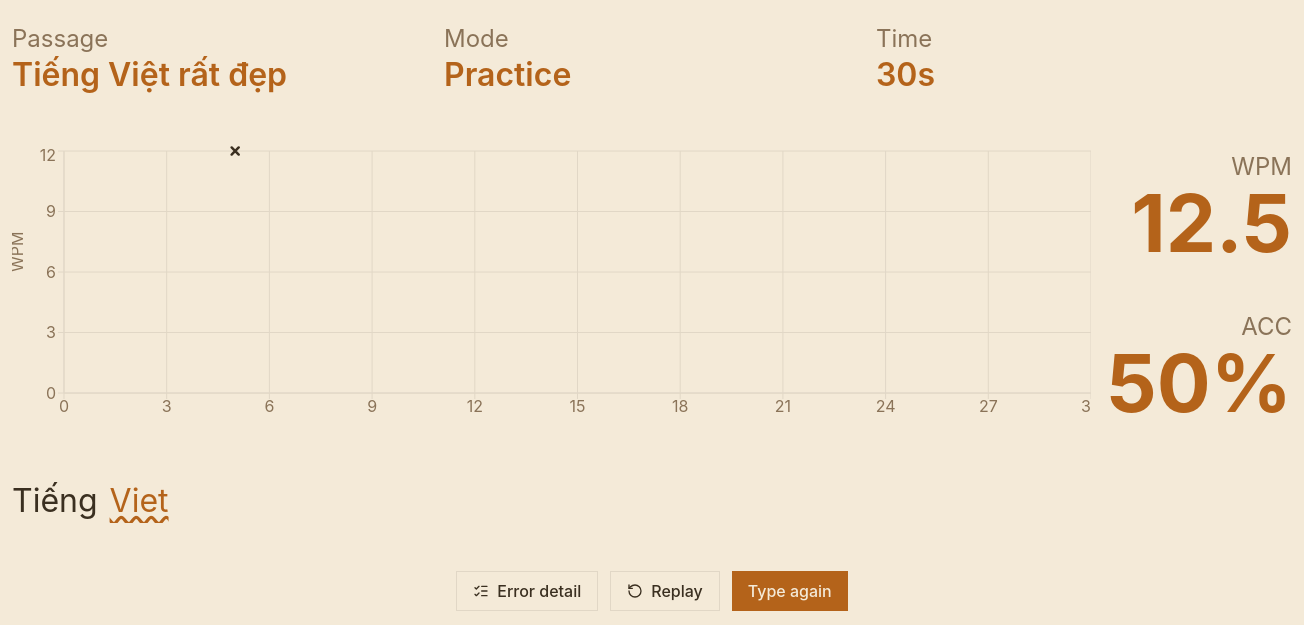
Test: TypingResultPage › says so instead of drawing an empty chart when the session has no mistakes
Step 1. Click the button "Error detail" → (527, 591), box [456, 571, 598, 611]
(page scrolled)
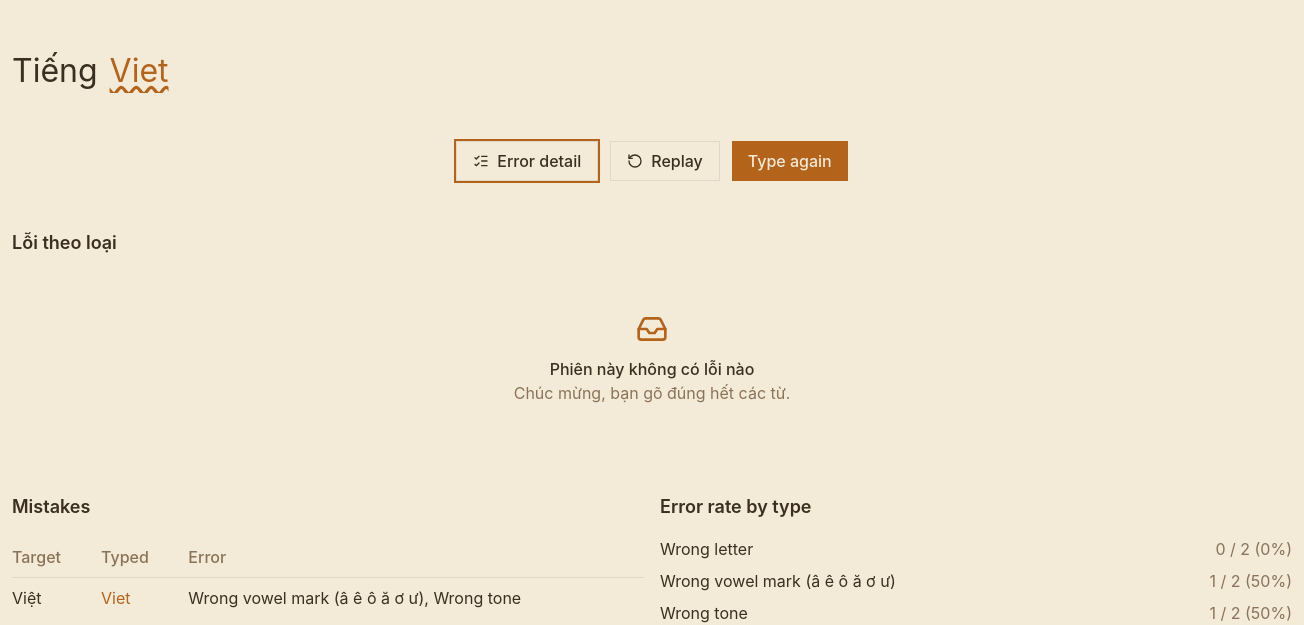
expect the text "Phiên này không có lỗi nào" is shown: met, box [550, 359, 754, 379]
